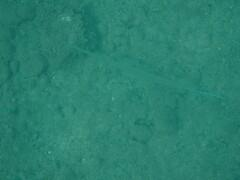Fistularia commersonii: (55, 32, 240, 130)
